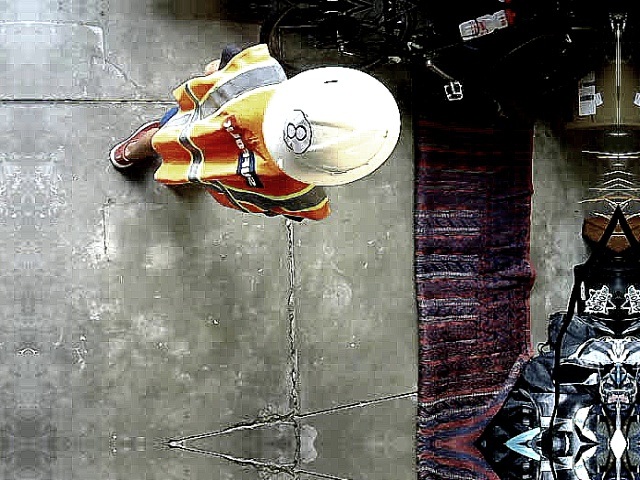eight: (282, 106, 312, 153)
